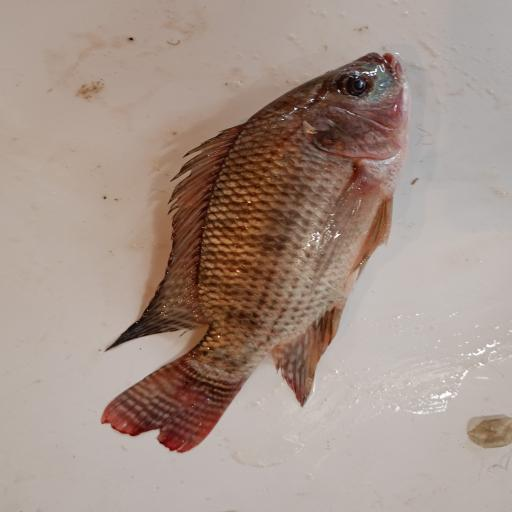Tilapia: (101, 52, 411, 453)
